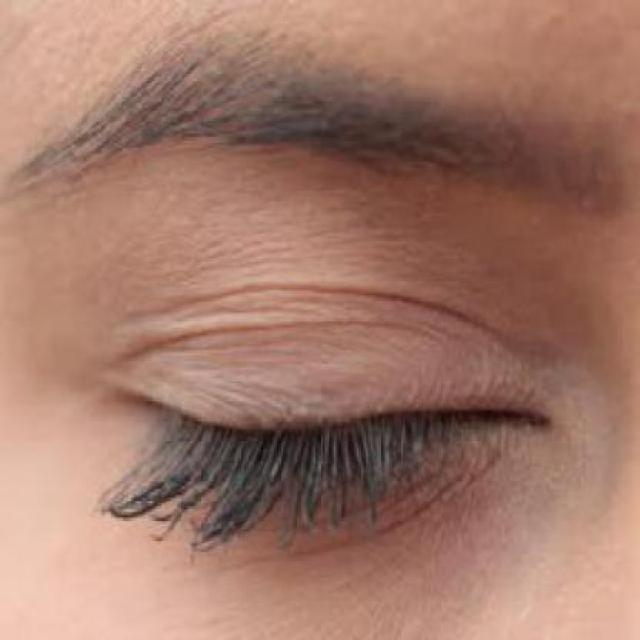drowsy: (111, 288, 555, 604)
